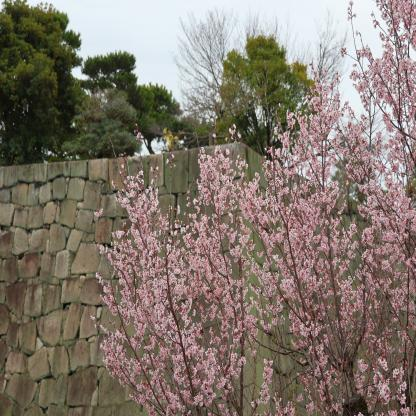Ume: (90, 0, 416, 416)
